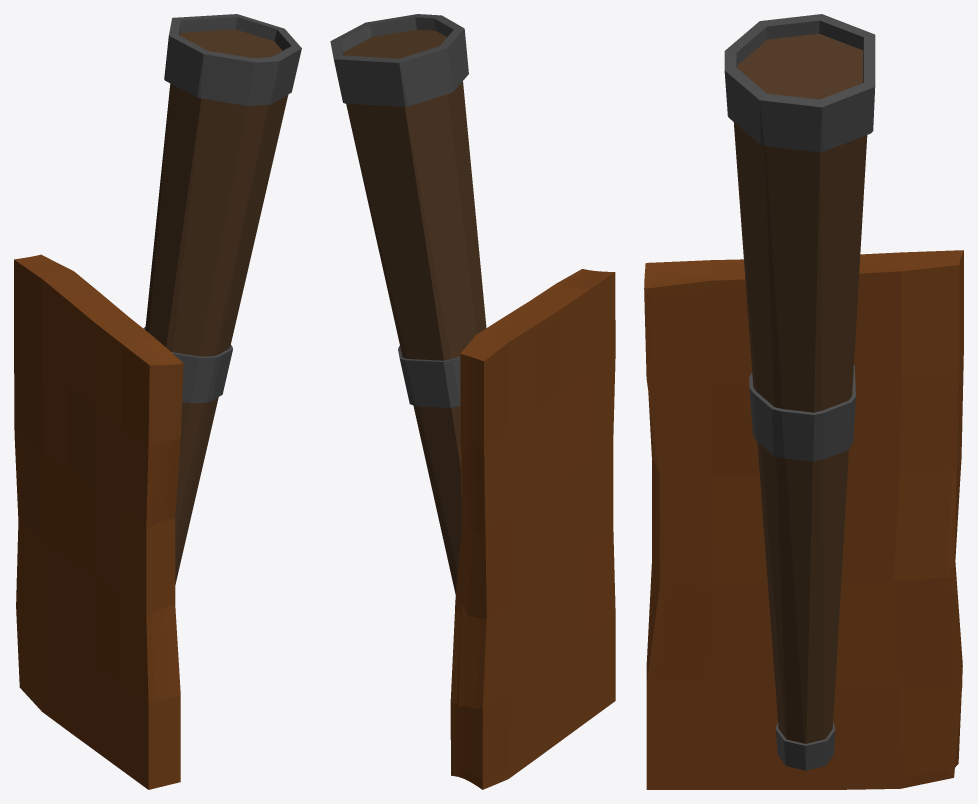
The model's file is torch_wall1.fbx.
The picture shows the model from 3 angles, left to right: view 1: azimuth 30°, elevation 25°; view 2: azimuth 150°, elevation 25°; view 3: azimuth 270°, elevation 25°; orthographic projection. The views are drawn at different scales.
Visible parts, largest first — view 1: torch.017; view 2: torch.017; view 3: torch.017.
Part boxes in pixels (x1,y1,x2,y2): torch.017: (14, 14, 301, 789); torch.017: (330, 14, 615, 789); torch.017: (644, 14, 963, 789).
Bounding box in the file's own units: 23 × 70.28 × 25.09.
